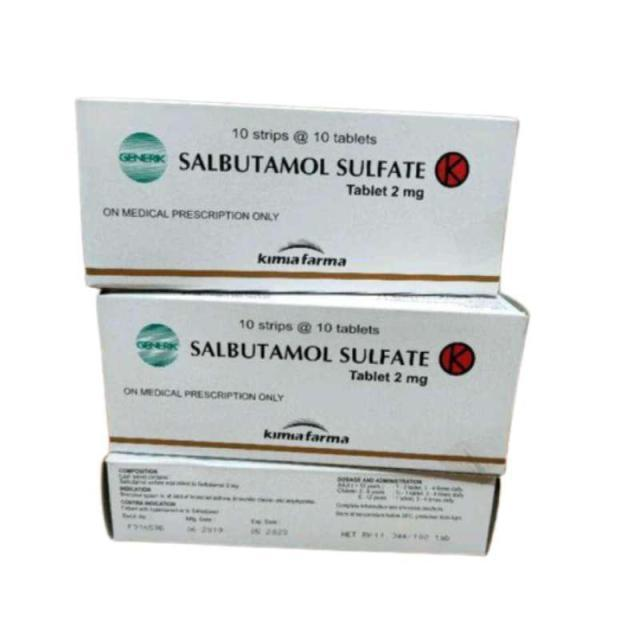drug-name: (189, 332, 333, 374)
